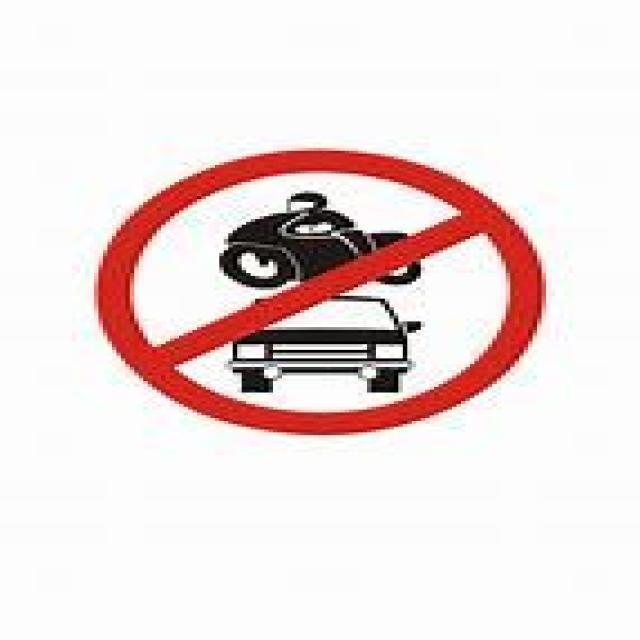all motor vehicle prohibited: (91, 147, 549, 439)
